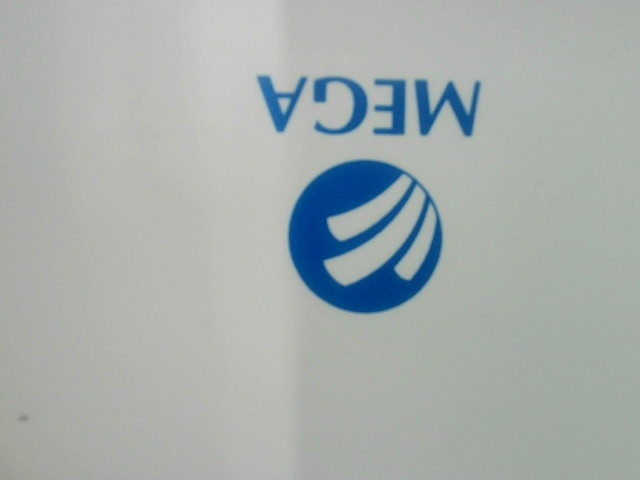AM_ZTEMEGA: (244, 56, 518, 336)
